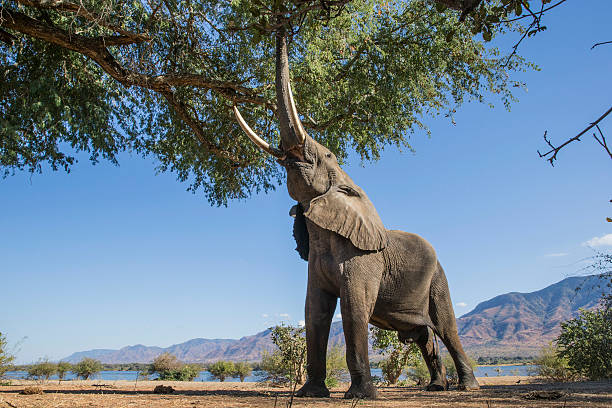africanelephant: (233, 78, 363, 235)
